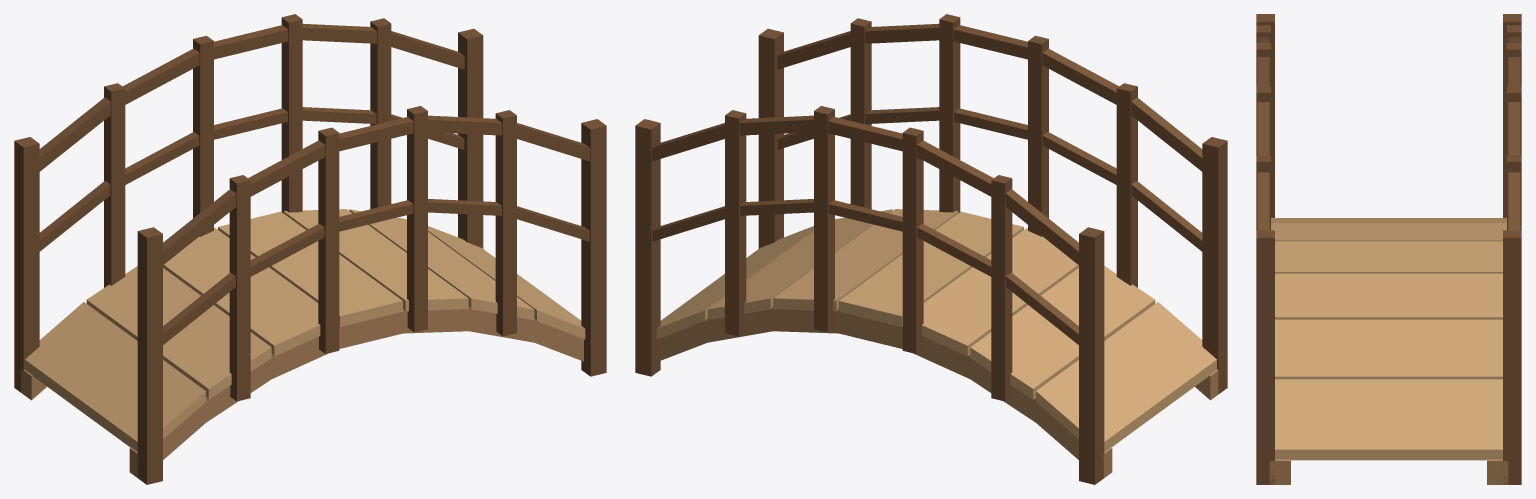
The model's file is sakura_garden_bridge_2m.glb.
3 views of the same model, side by side, from view 1: azimuth 30°, elevation 25°; view 2: azimuth 150°, elevation 25°; view 3: azimuth 270°, elevation 25° (orthographic).
Parts seen in each view (by area): view 1: sakura_garden_bridge_2m; view 2: sakura_garden_bridge_2m; view 3: sakura_garden_bridge_2m.
Part boxes in pixels (left/top/right/bottom): sakura_garden_bridge_2m: left=14, top=14, right=606, bottom=484; sakura_garden_bridge_2m: left=635, top=14, right=1227, bottom=484; sakura_garden_bridge_2m: left=1256, top=14, right=1521, bottom=484.
Size of the model in its own units: 2 by 1.27 by 1.
1 material, 1 textured.
